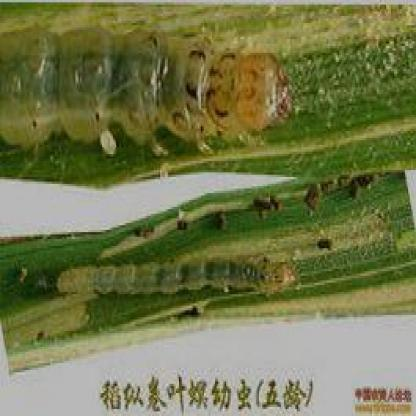leaf-folder: (7, 17, 309, 155), (34, 242, 314, 326)
